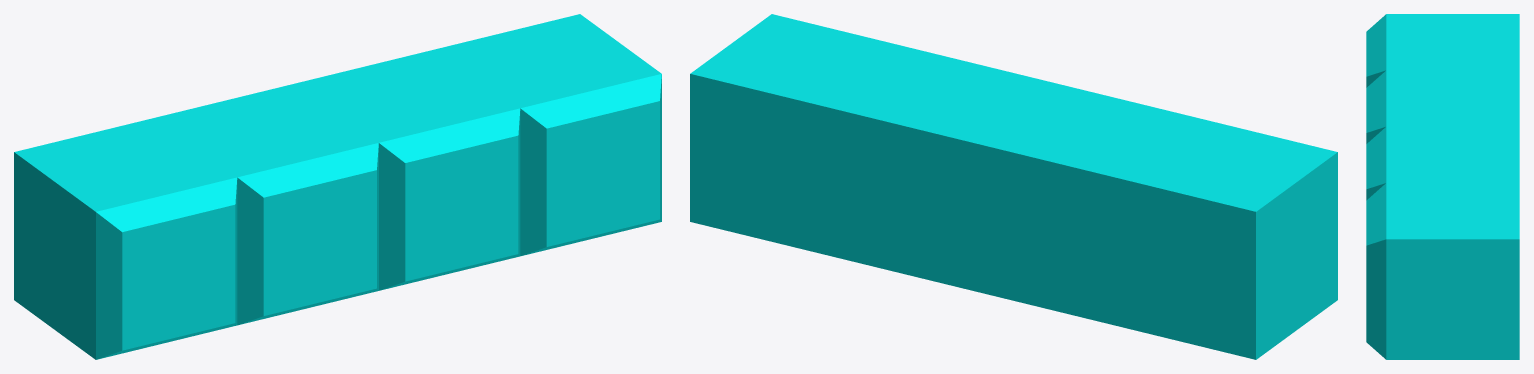
The model's file is tetris_1.obj.
The picture shows the model from 3 angles, left to right: view 1: azimuth 30°, elevation 25°; view 2: azimuth 150°, elevation 25°; view 3: azimuth 270°, elevation 25°; orthographic projection. The views are drawn at different scales.
Parts seen in each view (by area): view 1: Box01; view 2: Box01; view 3: Box01.
Part boxes in pixels (x1,y1,x2,y2): Box01: (14,14,661,359); Box01: (690,14,1337,359); Box01: (1366,14,1519,359).
Bounding box in the file's own units: 19.29 × 4.82 × 5.55.
